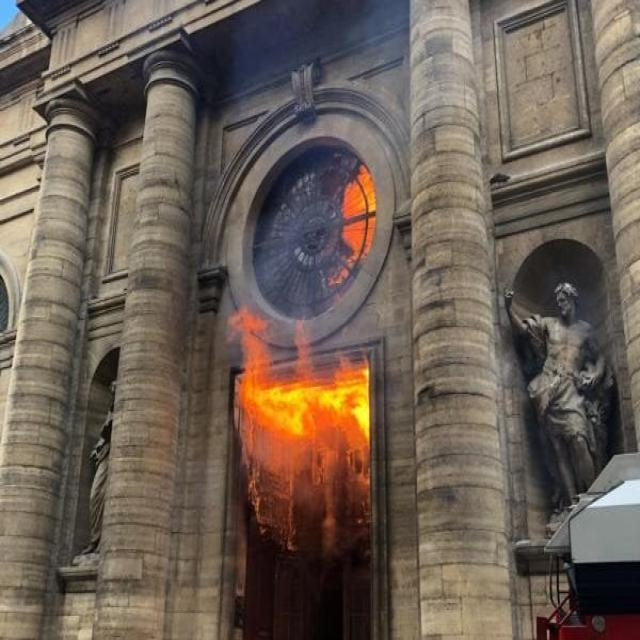Fire: (226, 303, 371, 549), (332, 164, 376, 283)
Smoke: (356, 0, 478, 129), (237, 0, 325, 112), (248, 218, 302, 308)
